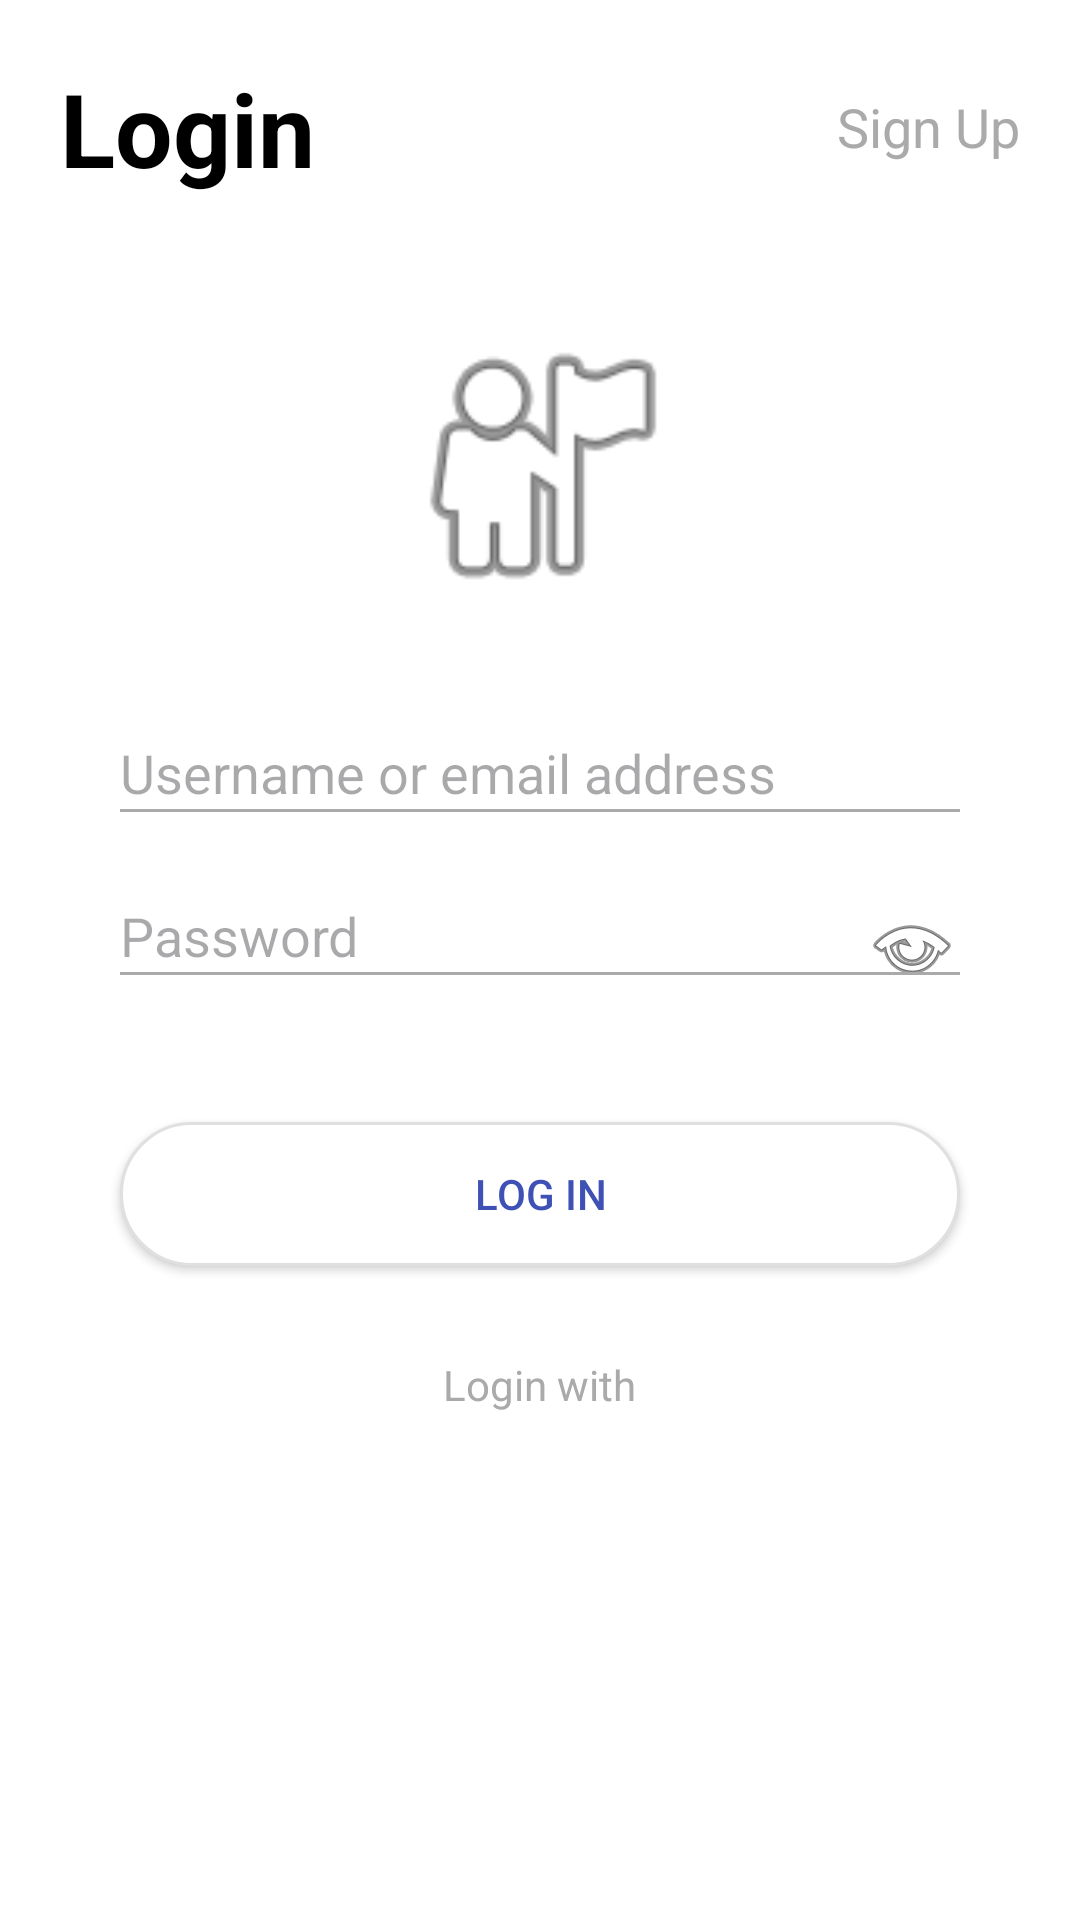

Icons on this 1080px×1920px Android screen, each with its box as (x1, y1, x2, y2):
myplaces: (430, 354, 656, 578)
view: (864, 925, 960, 975)
